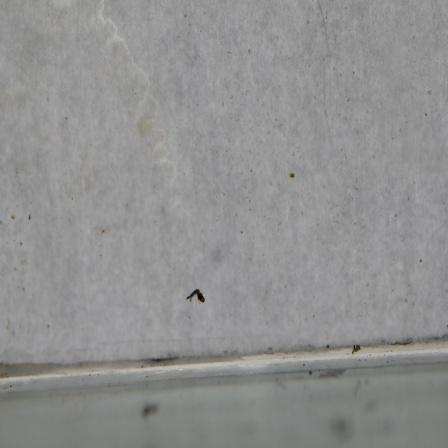Jentik-Nyamuk: (182, 284, 208, 306)
